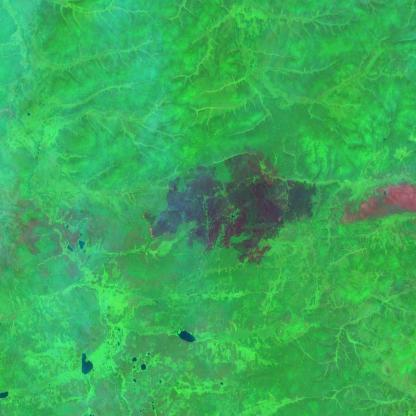fire: (140, 206, 172, 242)
